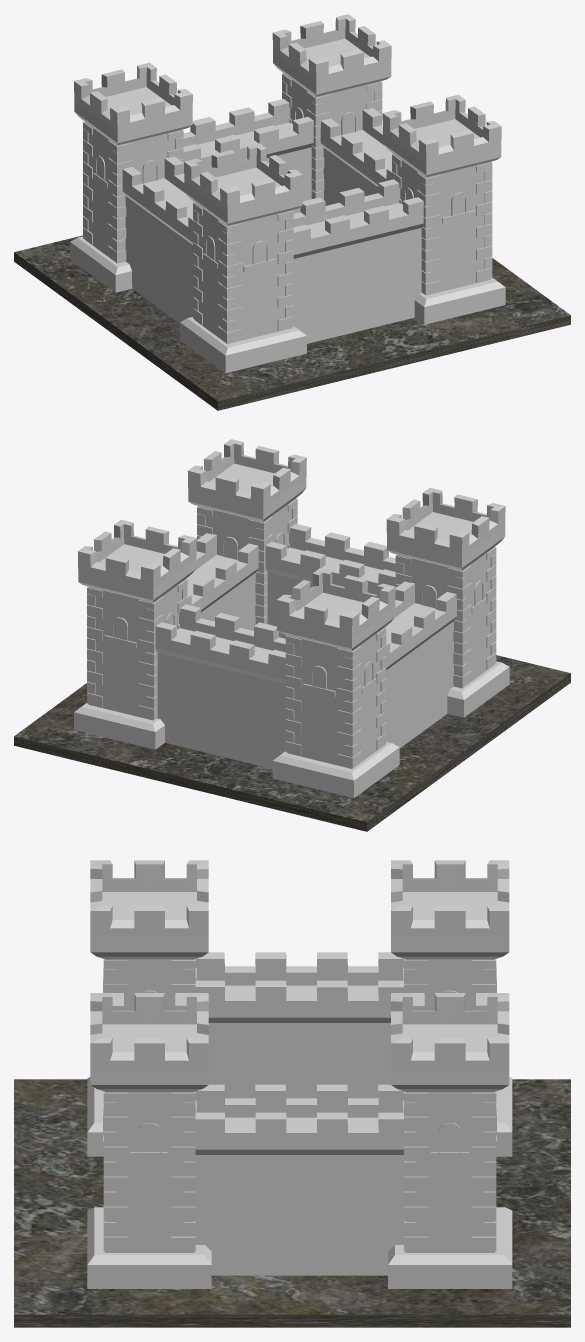
The model's file is sandStoneFort.glb.
The picture shows the model from 3 angles, top to bottom: view 1: azimuth 30°, elevation 25°; view 2: azimuth 150°, elevation 25°; view 3: azimuth 270°, elevation 25°; orthographic projection. The views are drawn at different scales.
Visible parts, largest first — view 1: Cube.006, Cube; view 2: Cube.006, Cube; view 3: Cube.006, Cube.
Boxes of the visible parts, x1,y1,x2,y2 form: Cube.006: (70, 14, 505, 373); Cube: (14, 235, 570, 410); Cube.006: (74, 439, 509, 798); Cube: (14, 655, 570, 831); Cube.006: (87, 860, 512, 1288); Cube: (14, 1079, 570, 1327).
Bounding box in the file's own units: 2.56 × 1.3 × 2.56.
2 materials, 1 textured.
